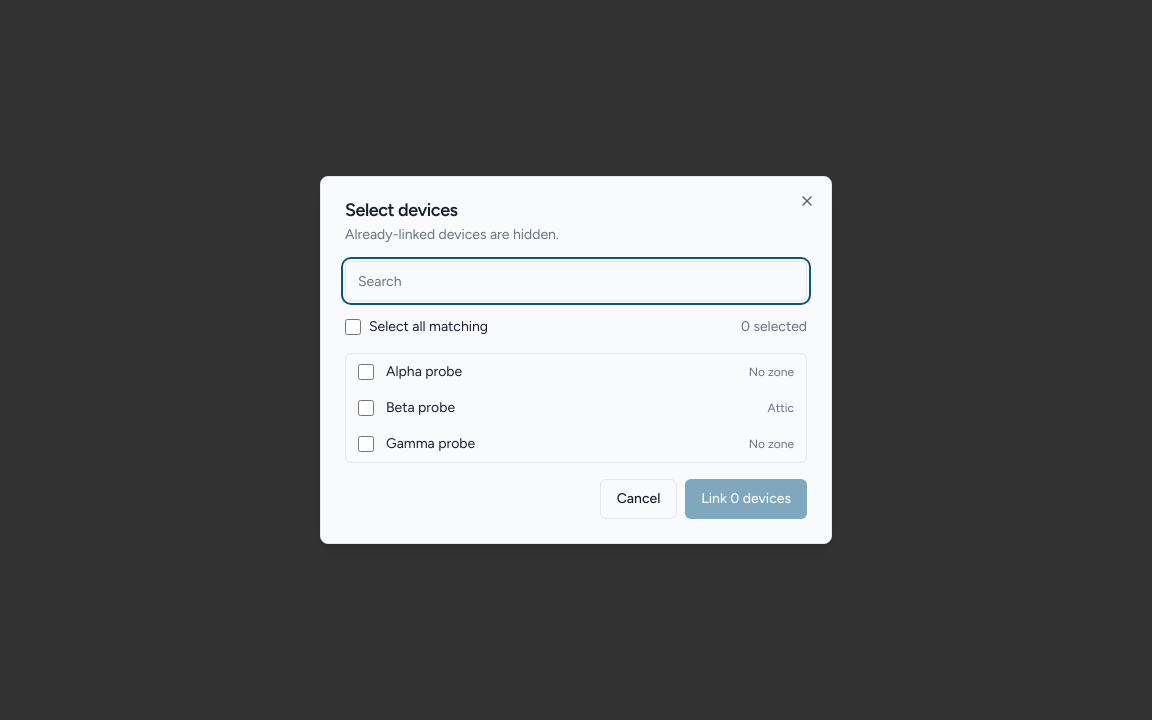
DeviceLinkDialog › keeps devices selected while the search narrows the list
Click the checkbox labelled "Alpha probe". click: coordinates (366, 372)
box: [358,364,374,380]
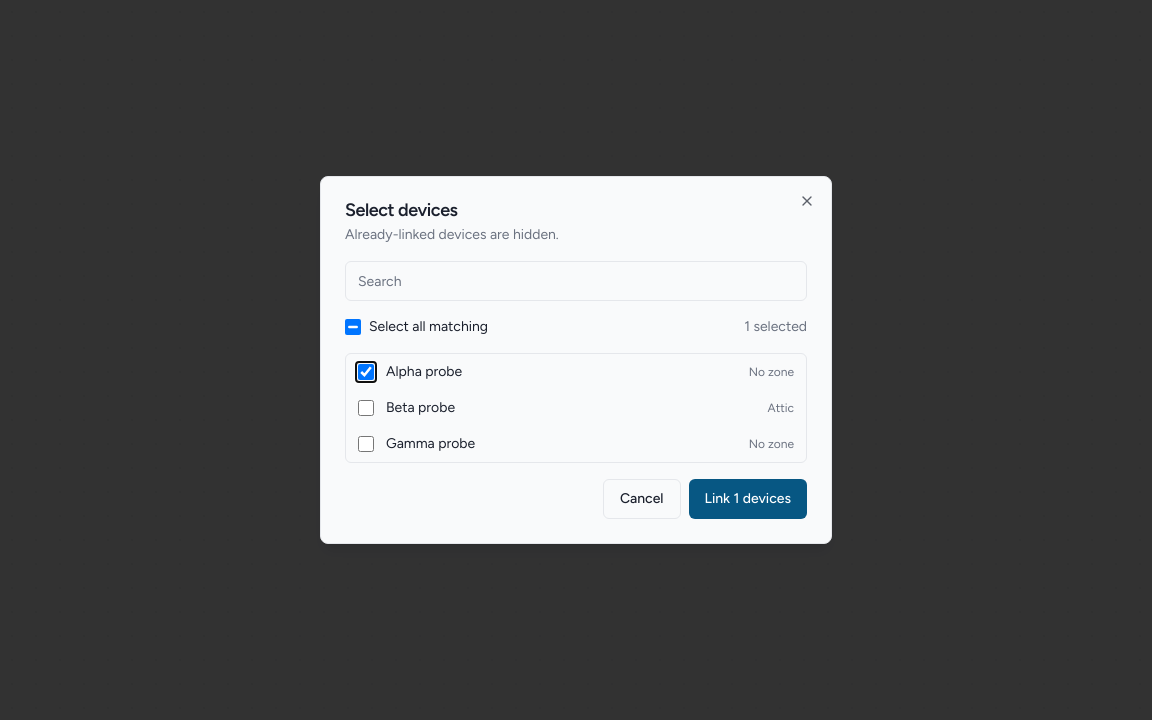
Type "Gamma" into the field with placeholder "Search". click: coordinates (576, 281)
box: [345,261,807,301]
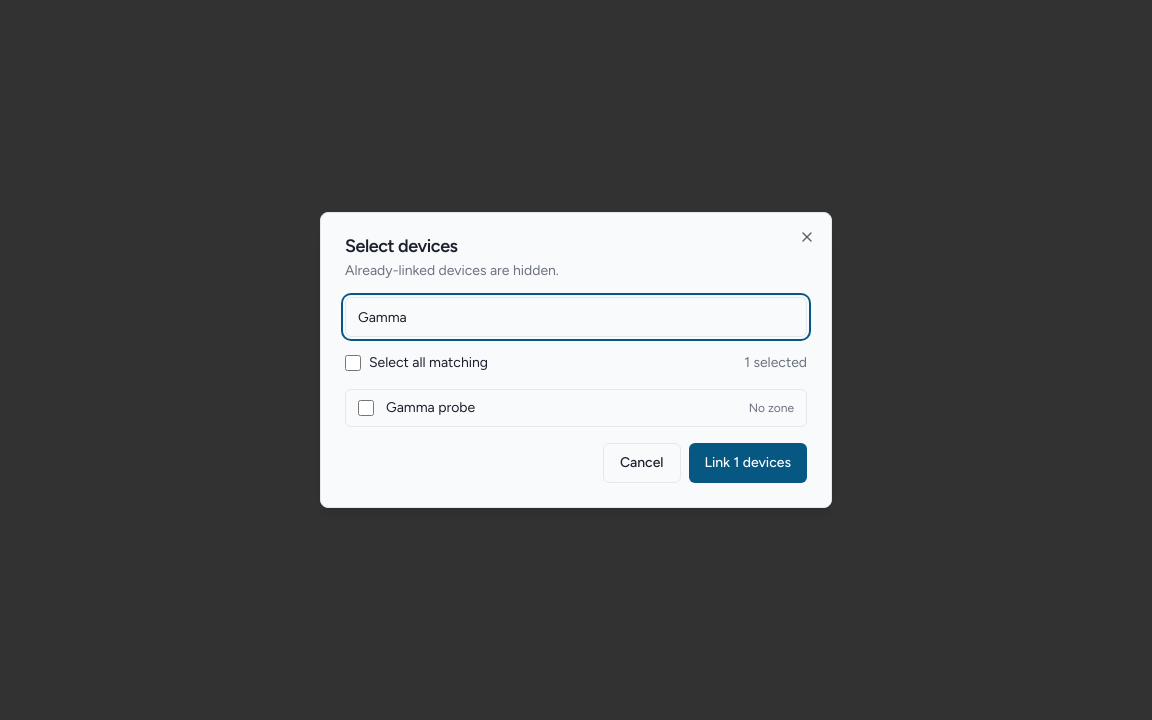
Now the button "Link 1 devices" is shown, box [688,443,807,483]
Now the text labelled "Alpha probe" is gone
Click the checkbox labelled "Gamma probe". click: coordinates (366, 408)
box: [358,400,374,416]
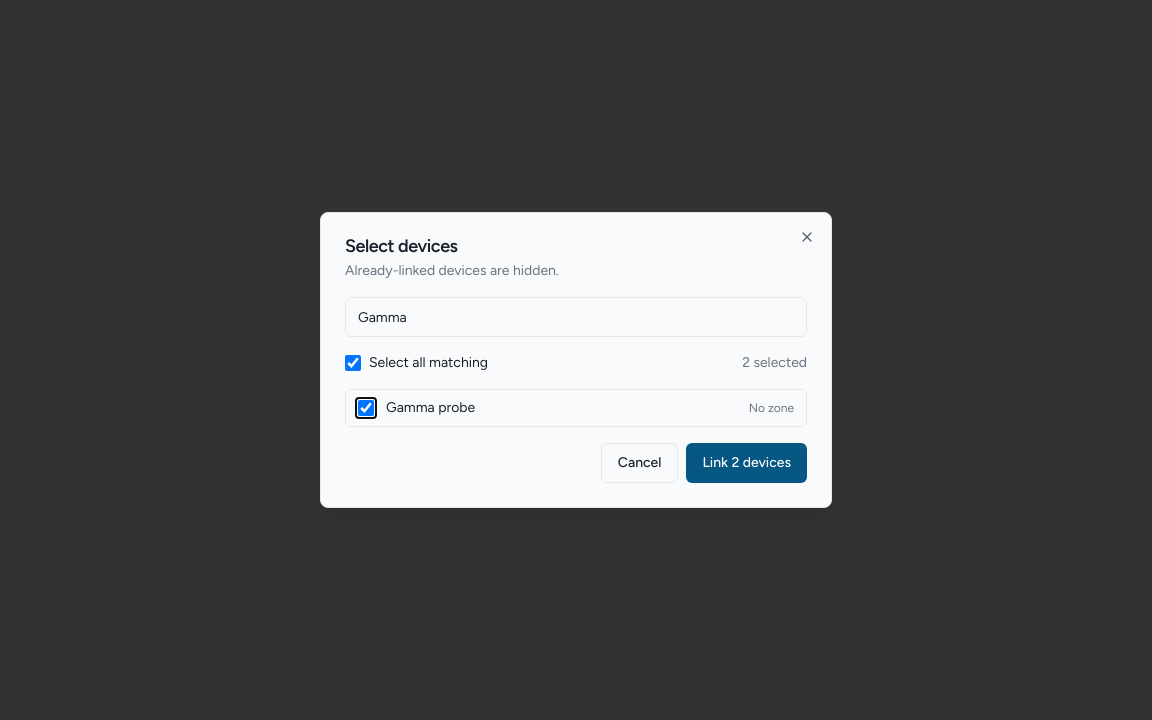
Now the button "Link 2 devices" is shown, box [686,443,807,483]
